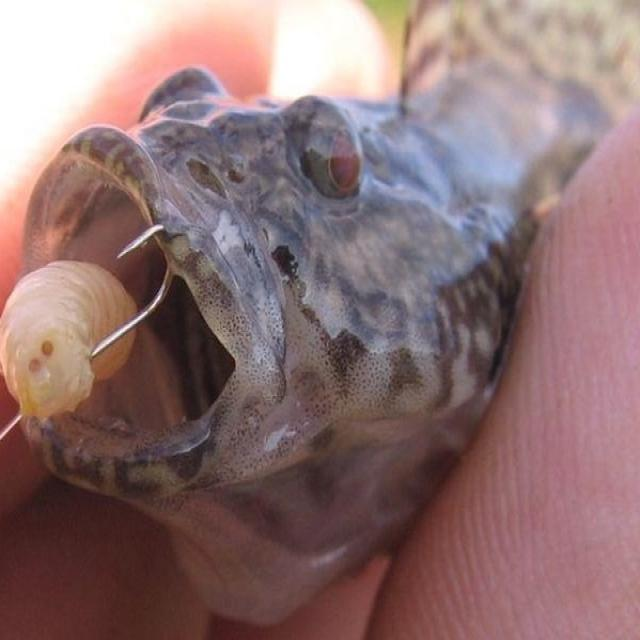Goby: (16, 36, 603, 640)
